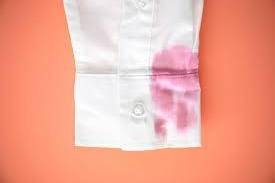wine: (148, 44, 197, 140)
